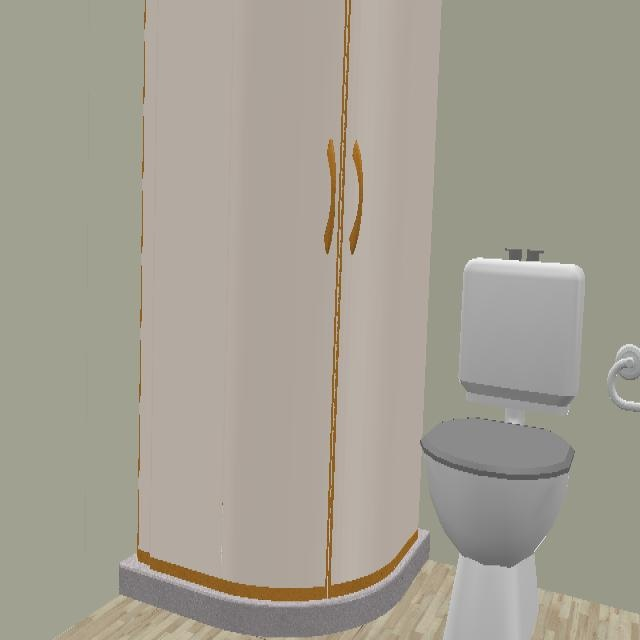shower: (119, 0, 444, 640)
toilet: (420, 259, 585, 640)
